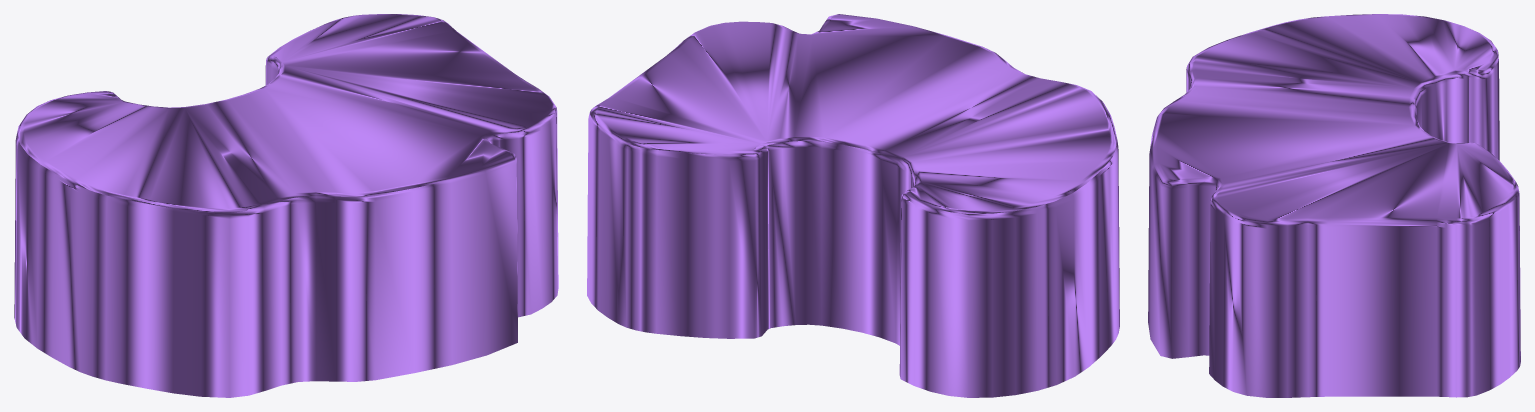
Rendered from lorville_noflyzone_suburb_redout_11.glb.
3 renders of one model, left to right at view 1: azimuth 30°, elevation 25°; view 2: azimuth 150°, elevation 25°; view 3: azimuth 270°, elevation 25°, orthographic. The views are drawn at different scales.
Bounding box in the file's own units: 4108 × 1591 × 3062.
